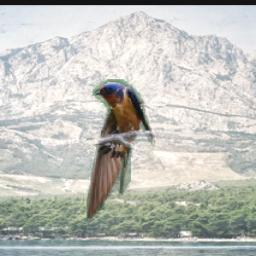Swallow: (85, 79, 154, 219)
